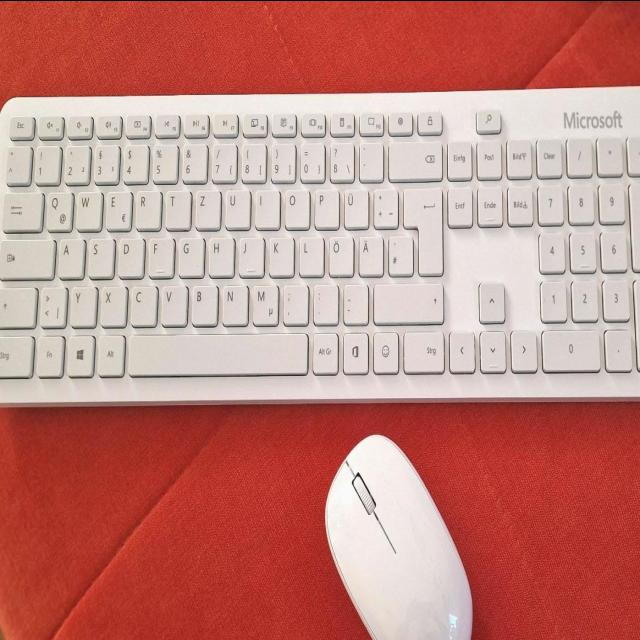0: (300, 143, 325, 183)
1: (34, 146, 60, 186)
2: (65, 145, 90, 185)
3: (94, 145, 119, 185)
4: (124, 143, 149, 183)
5: (153, 143, 178, 183)
6: (183, 143, 208, 183)
7: (212, 143, 237, 183)
8: (242, 143, 267, 183)
9: (271, 143, 296, 183)
a: (59, 237, 85, 280)
accent: (357, 143, 382, 183)
ae: (357, 235, 383, 277)
alt-left: (97, 332, 125, 378)
altgr-right: (310, 333, 337, 377)
b: (191, 284, 219, 328)
c: (129, 284, 157, 328)
caret: (4, 144, 32, 187)
comma: (282, 284, 308, 327)
d: (119, 237, 145, 280)
del: (385, 140, 443, 184)
e: (106, 192, 131, 232)
enter: (400, 187, 443, 277)
f: (147, 238, 174, 280)
g: (179, 236, 205, 278)
h: (209, 236, 235, 278)
hash: (386, 235, 412, 278)
i: (255, 189, 281, 231)
j: (239, 236, 265, 278)
k: (269, 236, 295, 278)
keyboard: (0, 75, 640, 414)
l: (299, 235, 325, 279)
less: (38, 286, 66, 330)
m: (252, 285, 279, 329)
minus: (343, 283, 369, 326)
n: (220, 284, 247, 328)
o: (283, 189, 309, 231)
oe: (327, 234, 353, 278)
p: (313, 189, 339, 231)
plus: (371, 187, 397, 231)
point: (312, 283, 338, 327)
q: (44, 191, 72, 234)
r: (134, 190, 161, 231)
s: (89, 237, 115, 280)
shift-left: (0, 286, 38, 330)
shift-lock: (0, 238, 56, 281)
shift-right: (373, 280, 446, 326)
space: (127, 331, 309, 382)
ss: (330, 143, 355, 183)
strg-left: (0, 335, 35, 381)
strg-right: (402, 330, 445, 374)
t: (166, 191, 192, 231)
tab: (1, 192, 45, 235)
u: (224, 190, 250, 231)
ue: (344, 188, 370, 232)
v: (160, 283, 188, 327)
w: (76, 192, 101, 232)
x: (100, 285, 128, 329)
y: (70, 286, 98, 330)
z: (194, 191, 220, 231)
